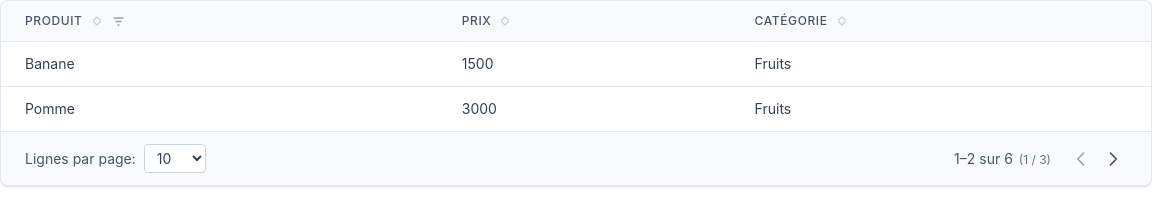
Test: ResponsiveDataTable — Upgrade & Robustesse › Pagination autonome › découpe automatiquement les données par tranche sans logique parent
Expected: the text "Banane" is shown, [1,42,438,86]
Expected: the text "Pomme" is shown, [1,86,438,131]
# Clic page suivante
What coordinates should you click on to do the following:
click the button named "Page suivante"
I would click on:
 (1113, 158)
Its box is [1099,144,1127,172].
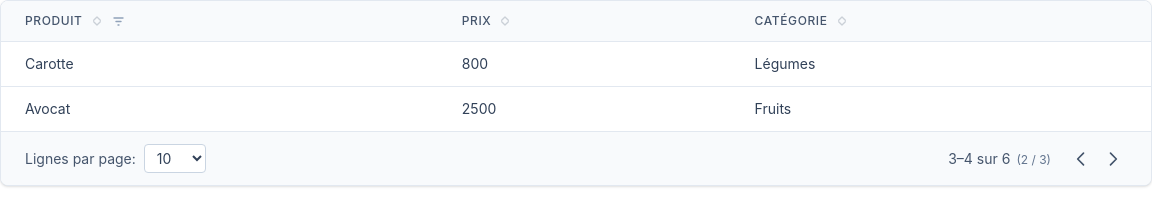
Result: the text "Carotte" is shown at [1,42,438,86]
Result: the text "Avocat" is shown at [1,86,438,131]
Result: the text "Banane" is gone
